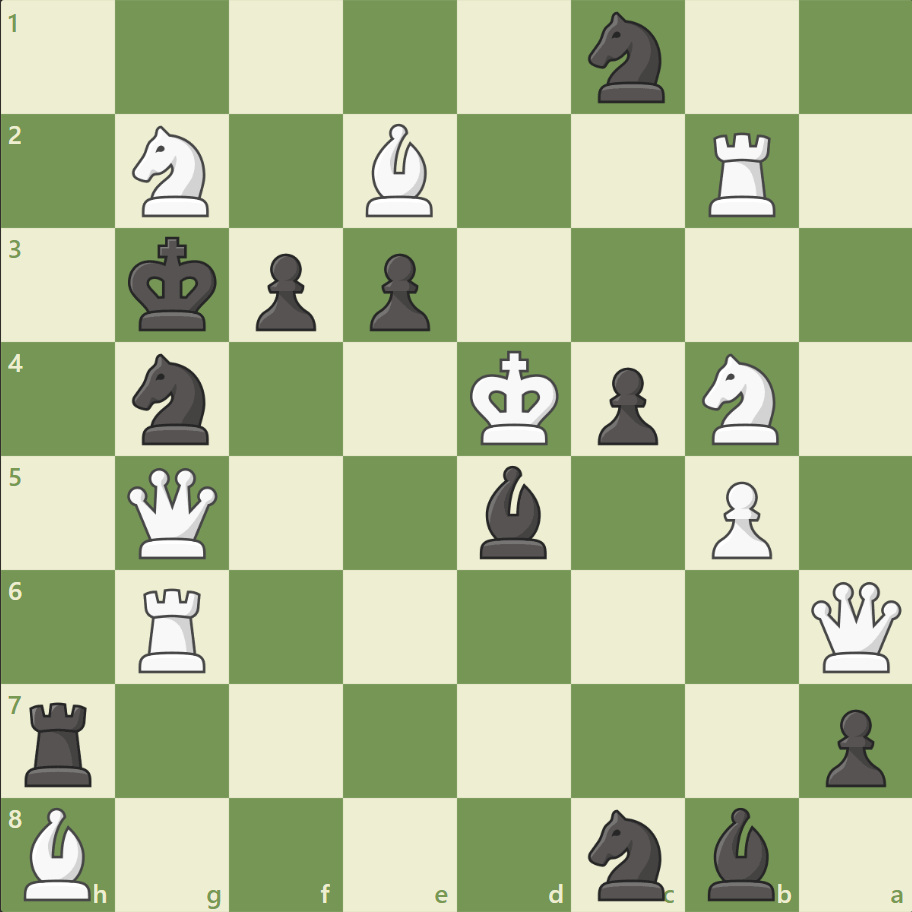B: (17, 801, 101, 904), (358, 120, 442, 222)
K: (465, 344, 565, 452)
N: (124, 121, 222, 223), (692, 348, 789, 450)
P: (701, 473, 776, 564)
Q: (805, 576, 904, 676), (124, 463, 223, 562)
R: (700, 125, 783, 222), (133, 579, 215, 676)
b: (698, 801, 782, 904), (471, 460, 555, 563)
k: (124, 231, 224, 339)
n: (124, 348, 222, 450), (579, 7, 676, 110), (579, 802, 676, 904)
p: (247, 246, 322, 337), (815, 700, 889, 791), (588, 359, 662, 450), (361, 246, 435, 337)
r: (19, 693, 102, 790)
